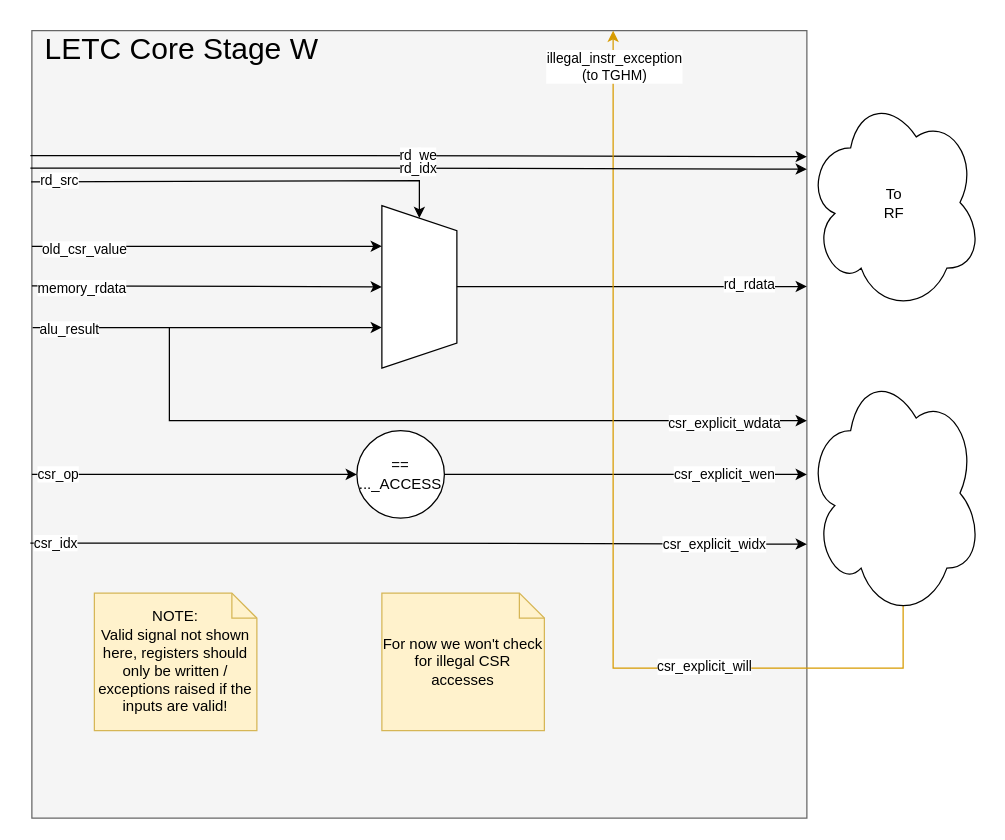
Some shapes in this 1005 by 840 pixel diagram are drawn without their labels. The shapes that lost their labels are listed below. From the top down, each one's box as (x1, y1, x2, y2) in pixels, then its label:
(381, 204, 457, 368): rd mux
(806, 367, 982, 618): To CSRs
